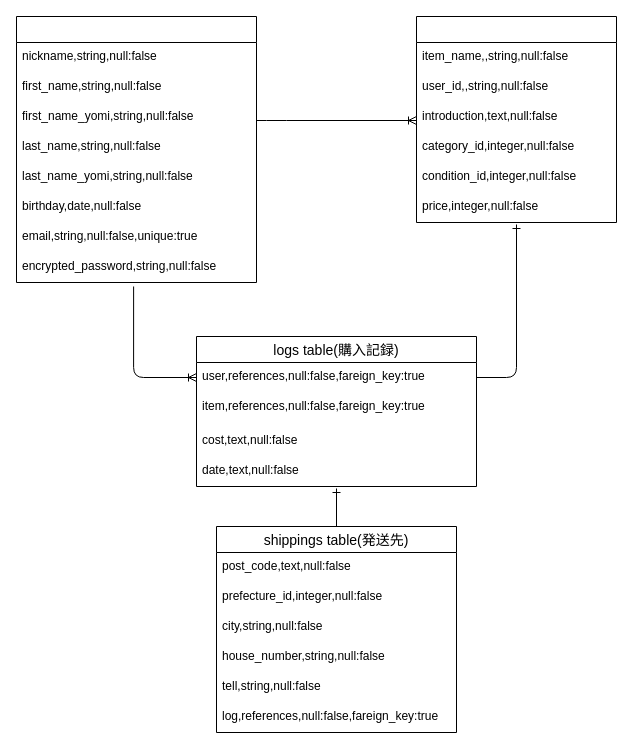
The diagram is 633 pixels wide and 749 high, and some of its shapes have lost their labels. The shapes that lost their labels are listed below. From the top down, each one's box as (x1, y1, x2, y2) in pixels, then its label:
(416, 16, 616, 222): Items table(商品)
(16, 16, 256, 282): Users table(購入者)
